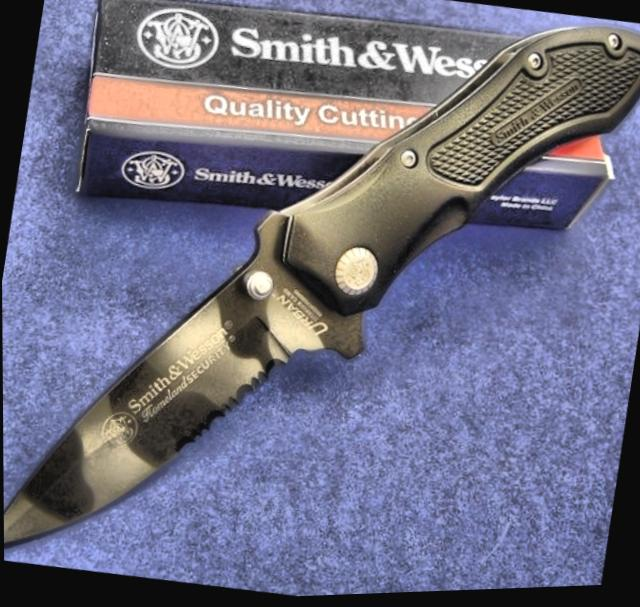knife: (1, 190, 354, 605)
